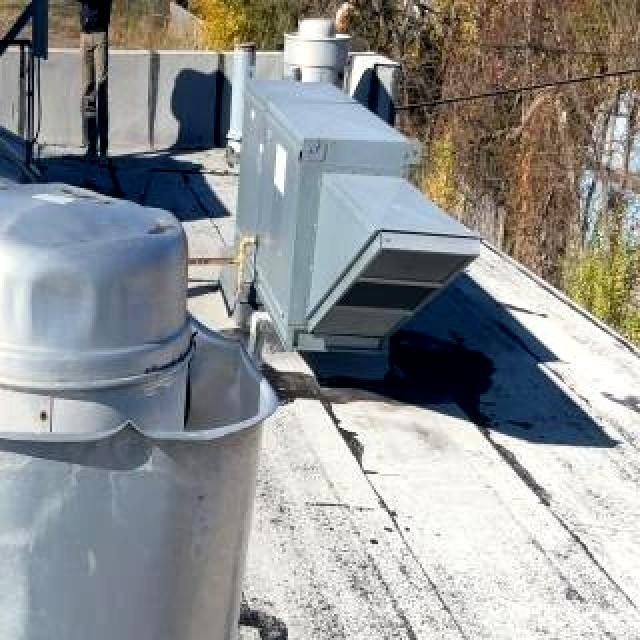GRAVITY-VENT: (0, 172, 292, 640), (272, 4, 356, 97)
RTU: (204, 70, 491, 380)
